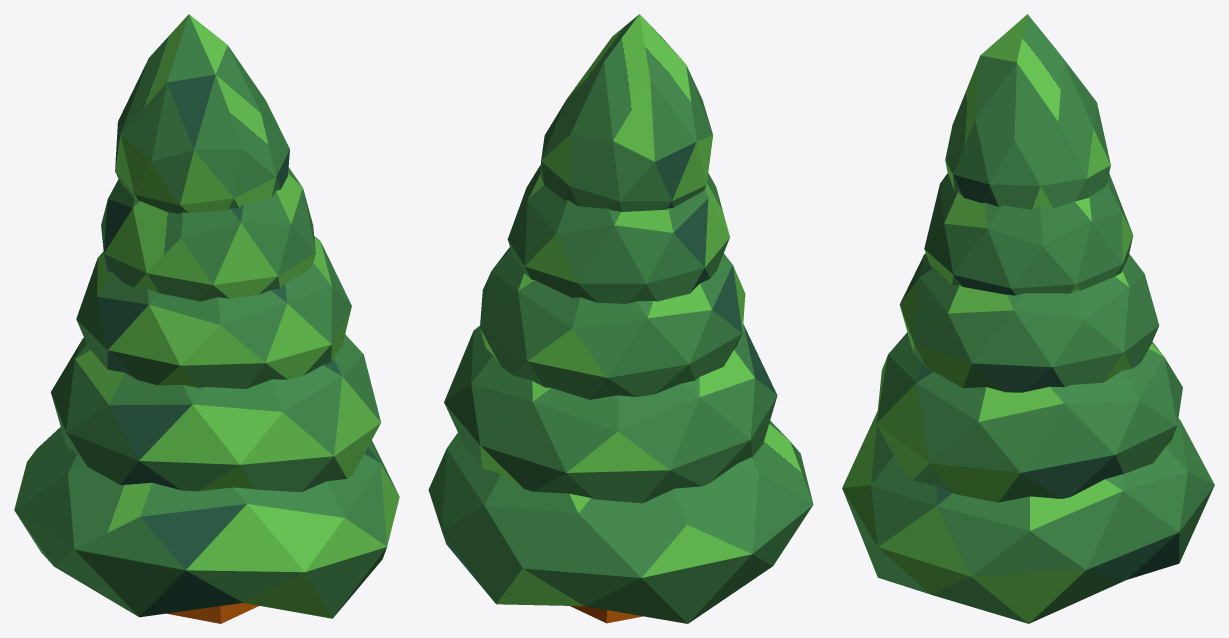
The model's file is Tree_05.fbx.
3 renders of one model, left to right at view 1: azimuth 30°, elevation 25°; view 2: azimuth 150°, elevation 25°; view 3: azimuth 270°, elevation 25°, orthographic. The views are drawn at different scales.
Parts seen in each view (by area): view 1: Tree_05; view 2: Tree_05; view 3: Tree_05.
Boxes of the visible parts, x1,y1,x2,y2 form: Tree_05: (14, 14, 399, 623); Tree_05: (428, 14, 813, 623); Tree_05: (842, 14, 1214, 623).
Size of the model in its own units: 342 by 591 by 358.
